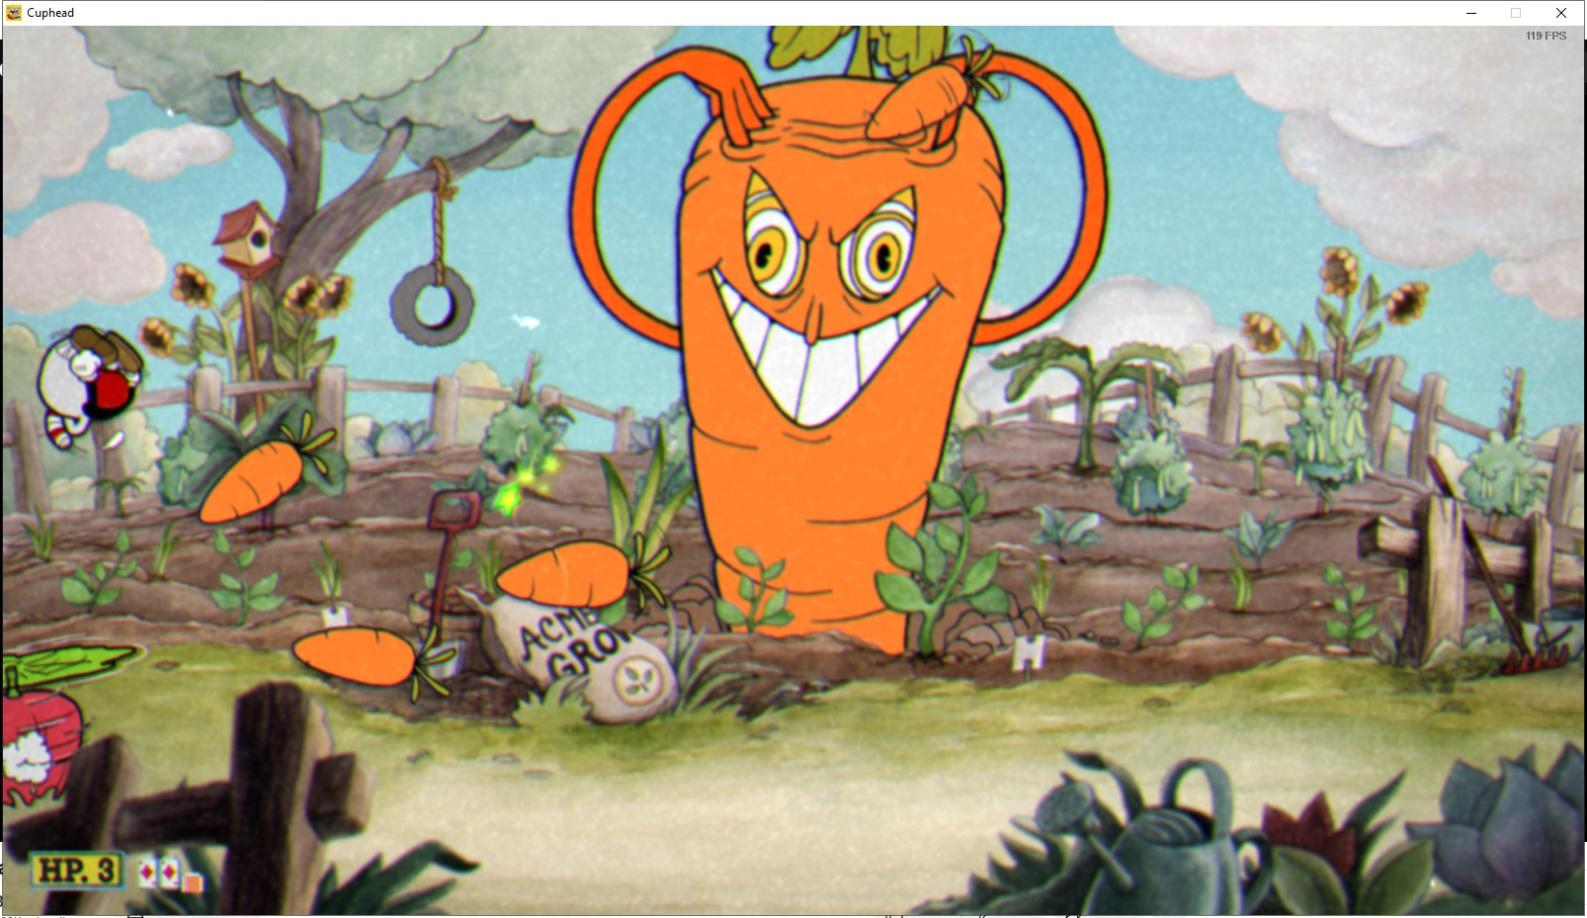carrot: (194, 403, 340, 535), (853, 30, 1014, 148), (482, 528, 679, 622), (282, 616, 458, 711)
hp3: (92, 852, 123, 890)
player: (32, 314, 150, 457)
